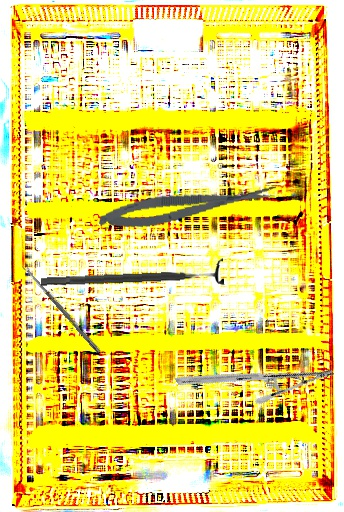Fixation Ring: (40, 257, 225, 296)
Micro Scissor: (96, 179, 280, 235)
Needle Holder: (174, 305, 336, 449)
Surgical Spoon: (21, 263, 102, 354)
